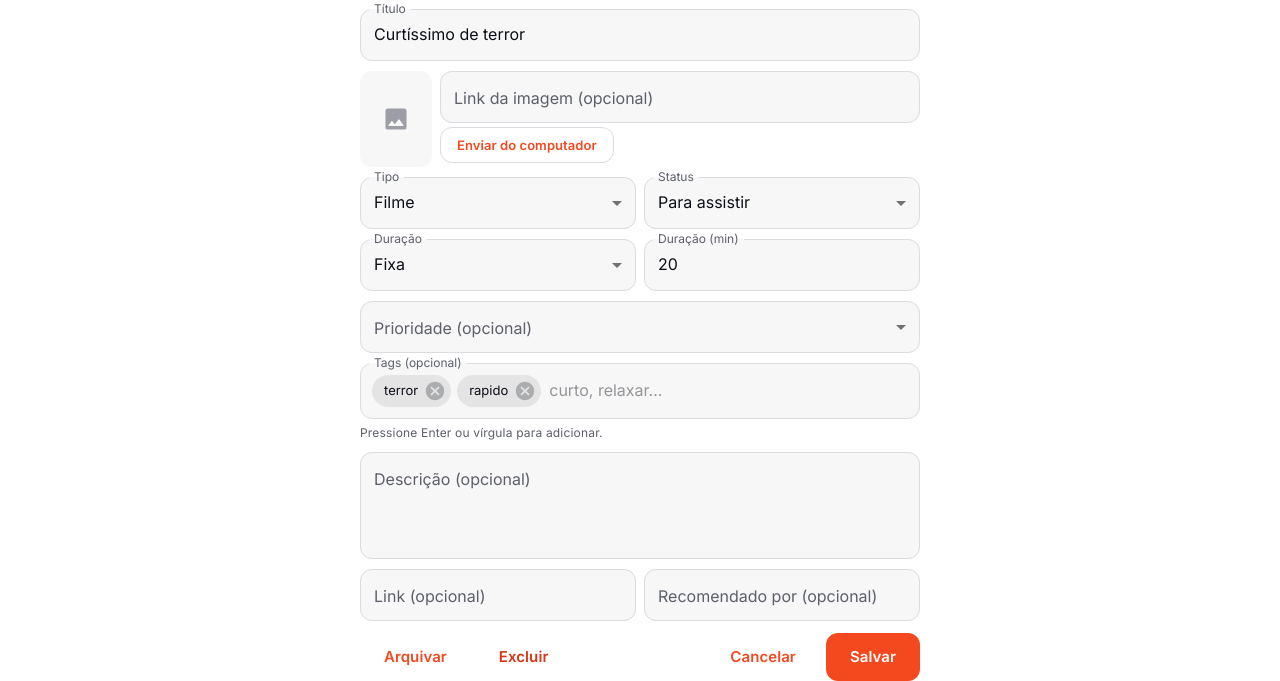
Test: LeisureItemEditPage › deletes the item after confirming, then goes to the library
This screenshot has width=1280, height=681.
(page scrolled)
Click the button "Excluir": click(524, 657) [475,633,572,680]
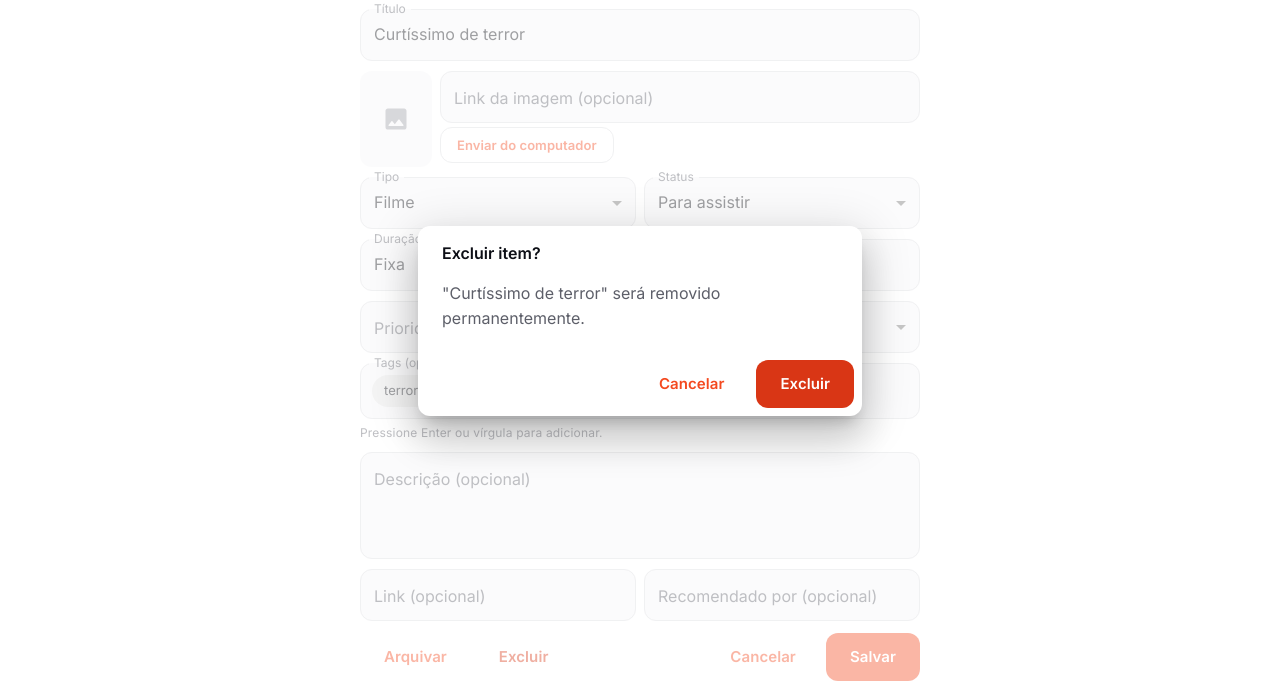
Click the button "Excluir": click(805, 384) [756,360,854,408]
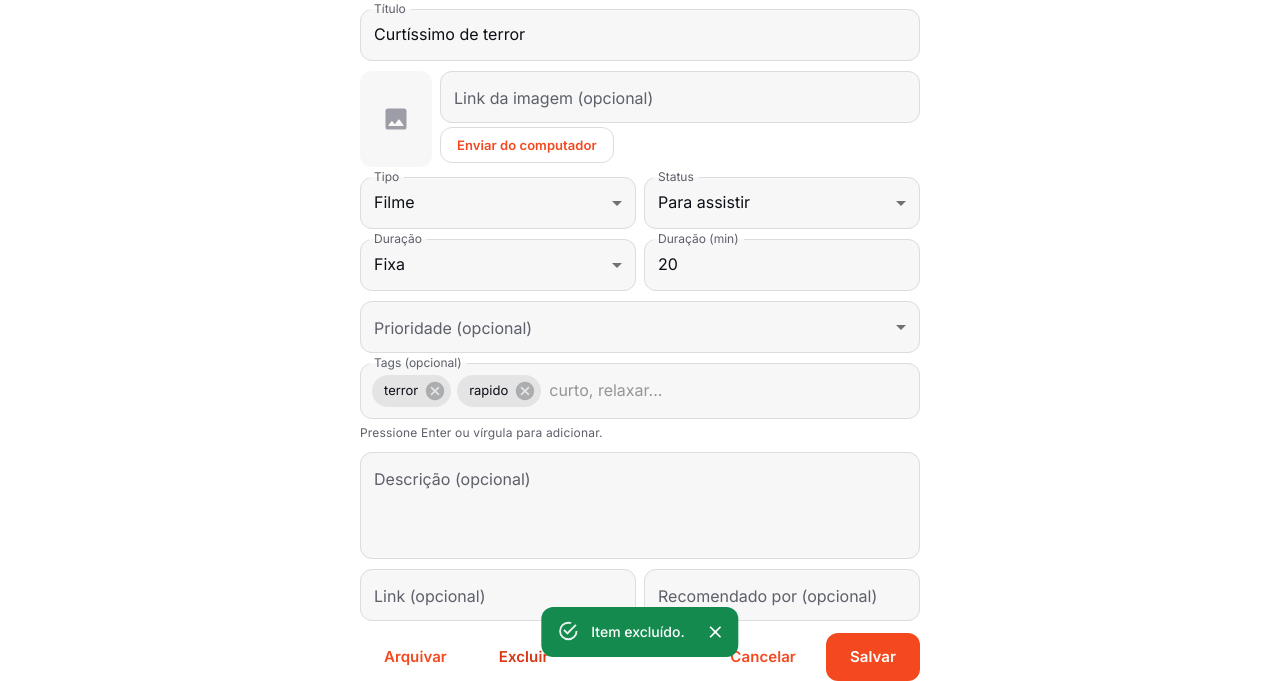
Expected: the text "Item excluído." is shown, [591,623,685,640]
